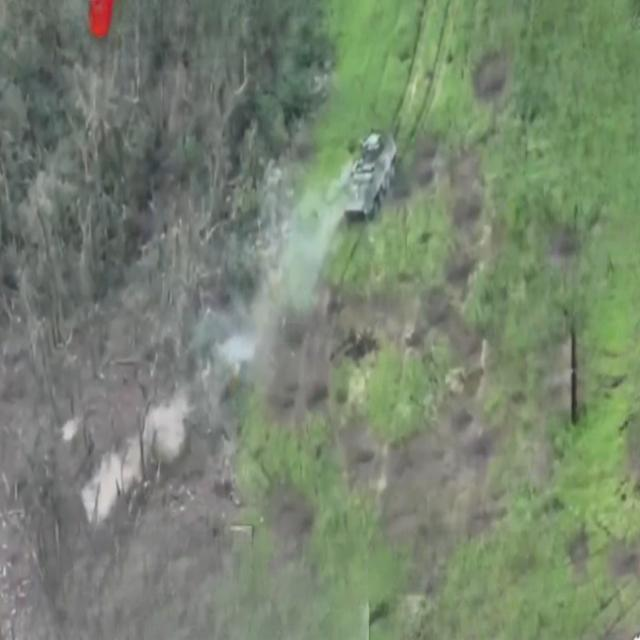APC: (340, 127, 401, 223)
